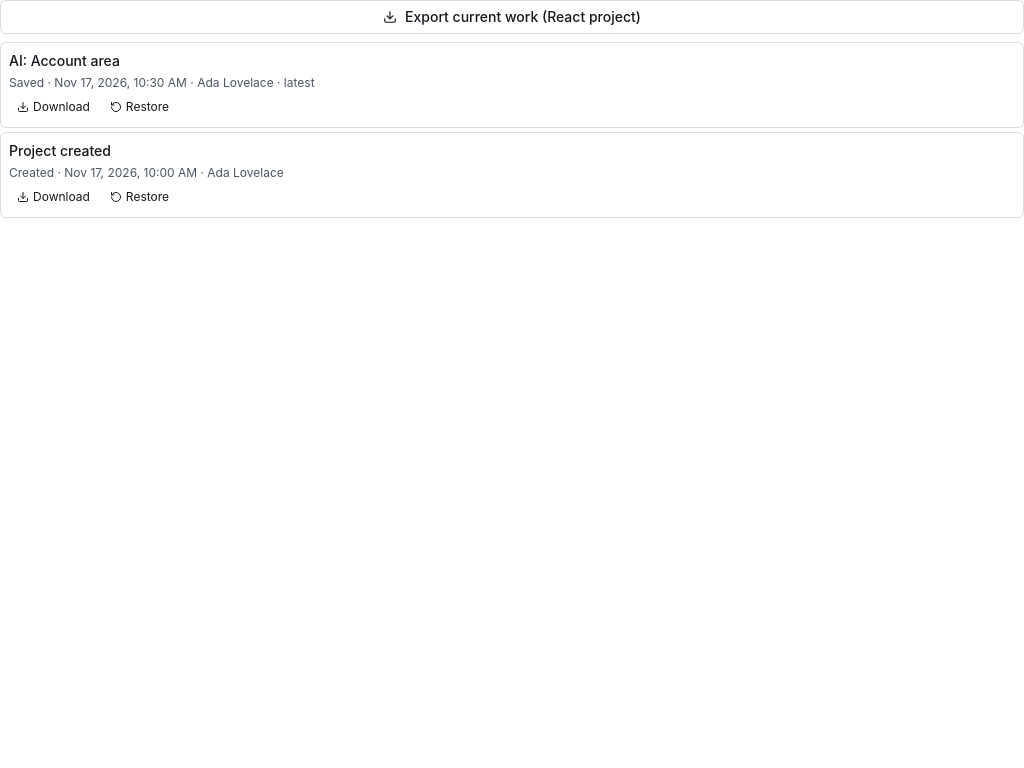
HistoryPanel › restores a checkpoint after confirmation, keeping unsaved work
Expected: the button with aria-label "Restore “AI: Account area”" is shown, [102,95,177,119]
Click the button with aria-label "Restore “Project created”" at (140, 197), box [102,185,177,209]
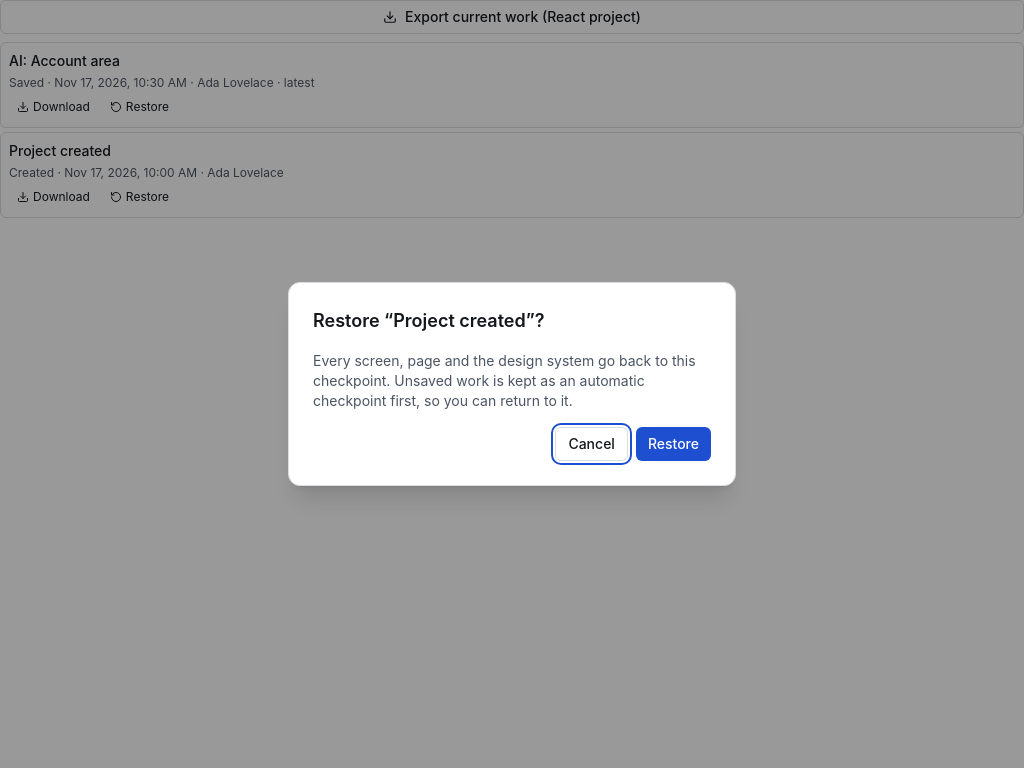
Expected: the dialog "Restore “Project created”?" shows "Unsaved work is kept as an automatic checkpoint", [313,352,696,409]
Click the button "Restore" at (673, 444), box [636,427,711,461]
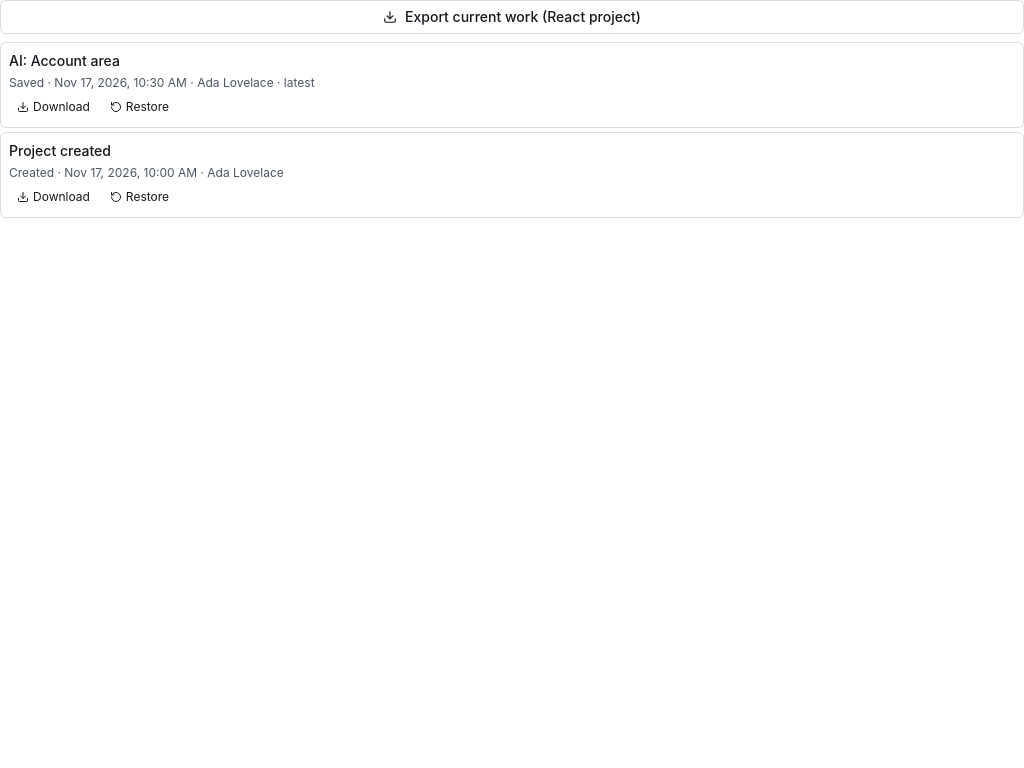
Expected: the dialog is gone
